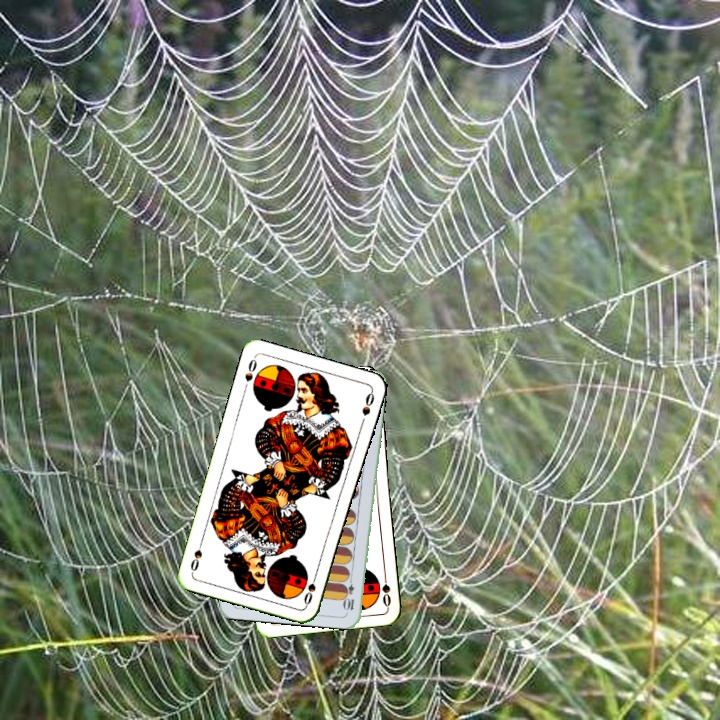E10: (342, 572, 357, 613)
SO: (300, 568, 320, 608), (240, 354, 260, 393), (378, 568, 393, 609)
